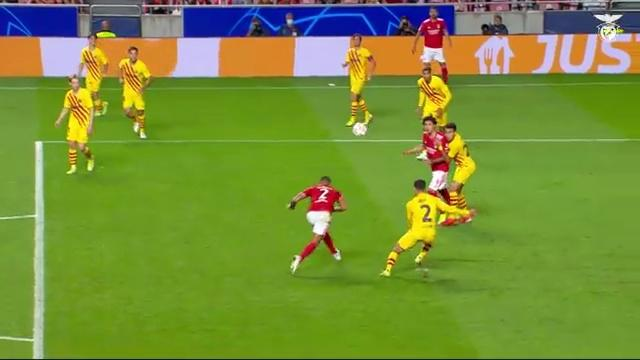football: (352, 122, 367, 135)
player: (381, 179, 474, 276), (288, 176, 346, 272), (403, 116, 449, 203), (55, 75, 94, 173), (118, 46, 151, 138), (342, 34, 375, 126), (412, 7, 451, 82), (444, 123, 475, 209), (78, 34, 107, 115), (416, 66, 451, 127)
